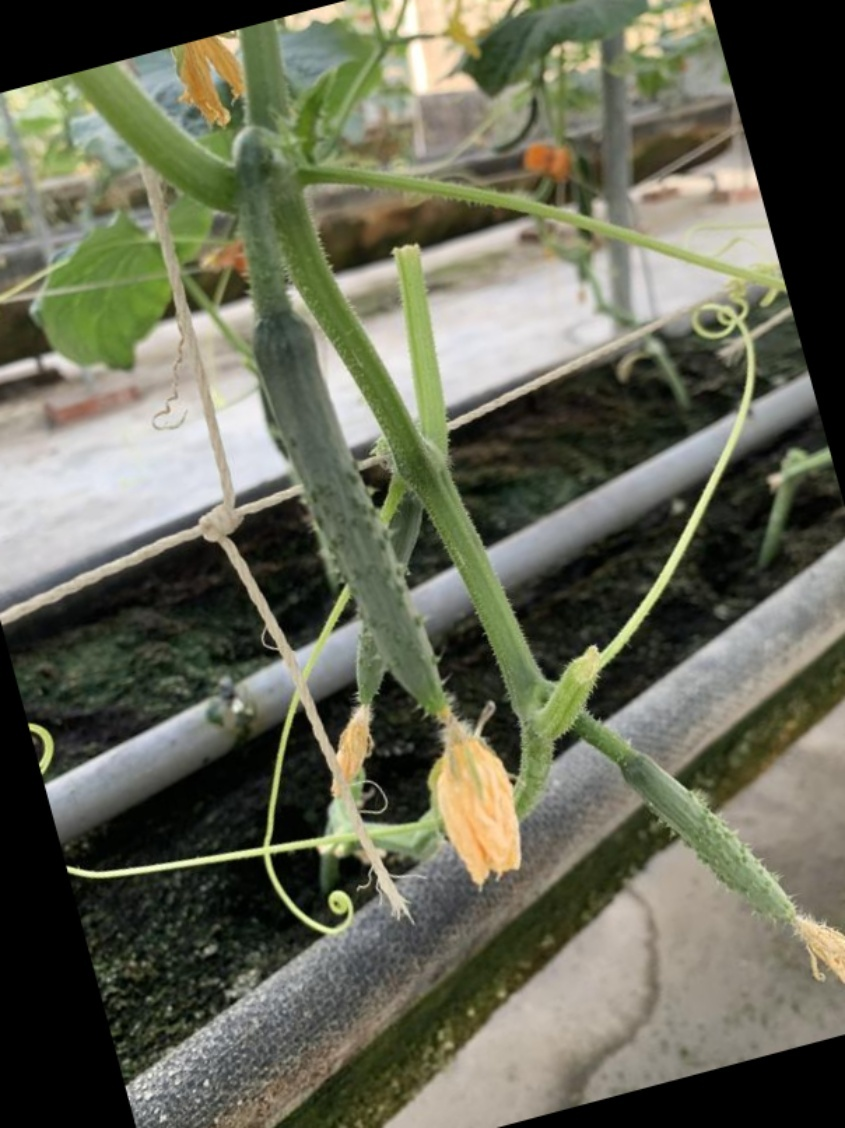bear: (616, 748, 842, 985)
growth: (235, 312, 535, 880)
